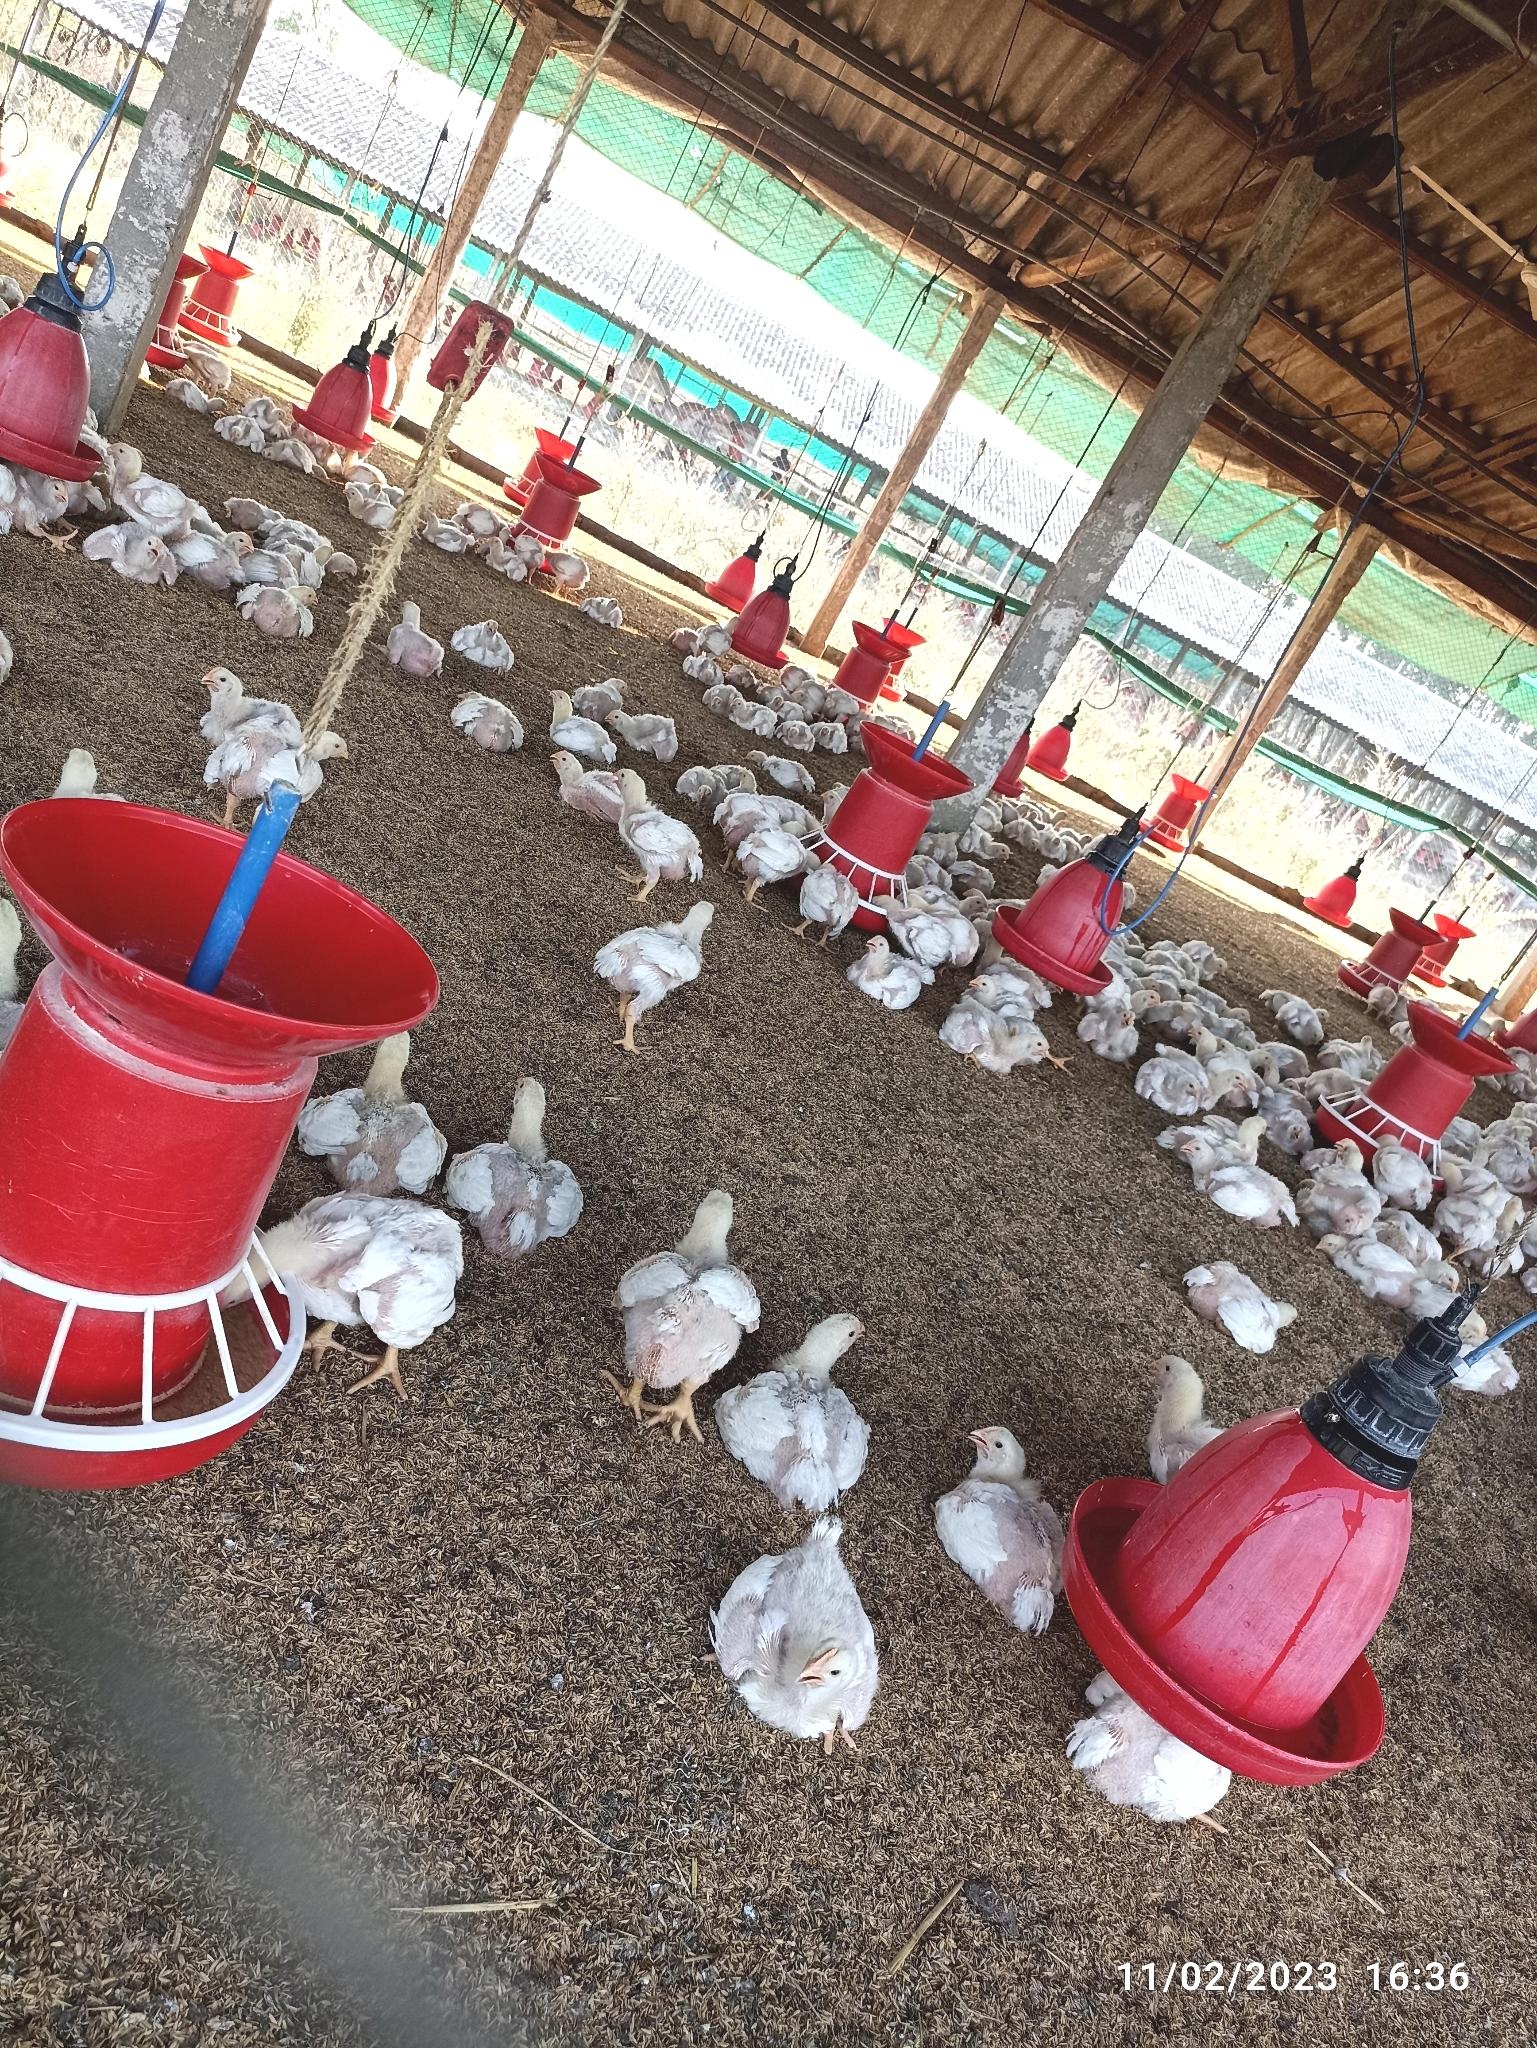Pollos: (718, 1520, 891, 1733), (622, 1180, 759, 1427), (294, 1159, 450, 1349), (743, 1302, 878, 1480), (941, 1427, 1066, 1611), (602, 897, 735, 1018), (468, 1080, 560, 1246), (593, 763, 699, 875), (200, 663, 295, 767), (1191, 1262, 1305, 1343), (946, 1002, 1053, 1085), (1201, 1143, 1305, 1225), (82, 520, 182, 586), (236, 579, 336, 637), (746, 809, 819, 884), (1145, 1043, 1221, 1110), (852, 931, 919, 1005), (1254, 991, 1337, 1047), (447, 691, 513, 760), (462, 607, 512, 663)
